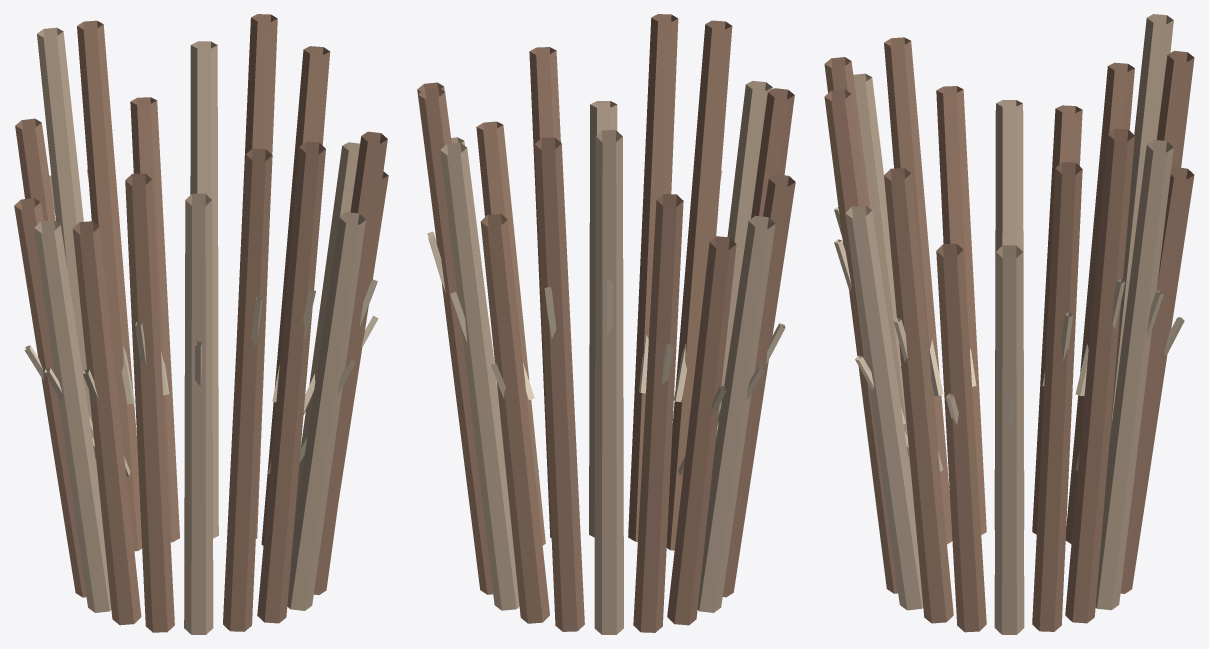
File: incense.glb
The picture shows the model from 3 angles, left to right: view 1: azimuth 30°, elevation 25°; view 2: azimuth 150°, elevation 25°; view 3: azimuth 270°, elevation 25°; orthographic projection.
Visible parts, largest first — view 1: incense; view 2: incense; view 3: incense.
Part boxes in pixels (box(x1,y1,x2,y2)): incense: box(14, 14, 388, 634); incense: box(417, 14, 795, 634); incense: box(824, 14, 1194, 634).
Size of the model in its own units: 0.5963 by 0.898 by 0.5738.
